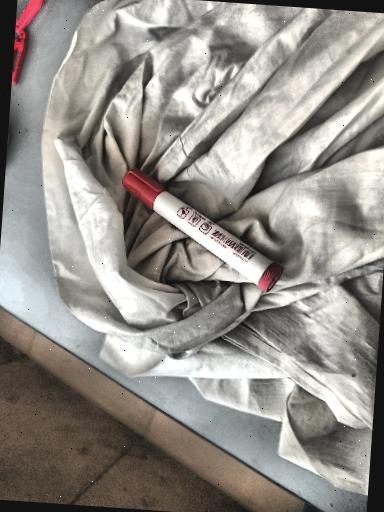marcador rojo: (122, 168, 284, 292)
